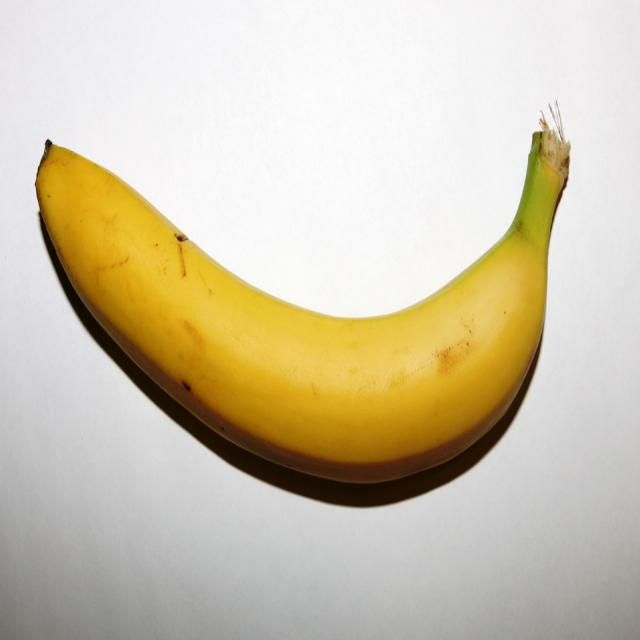Banana: (33, 109, 579, 488)
